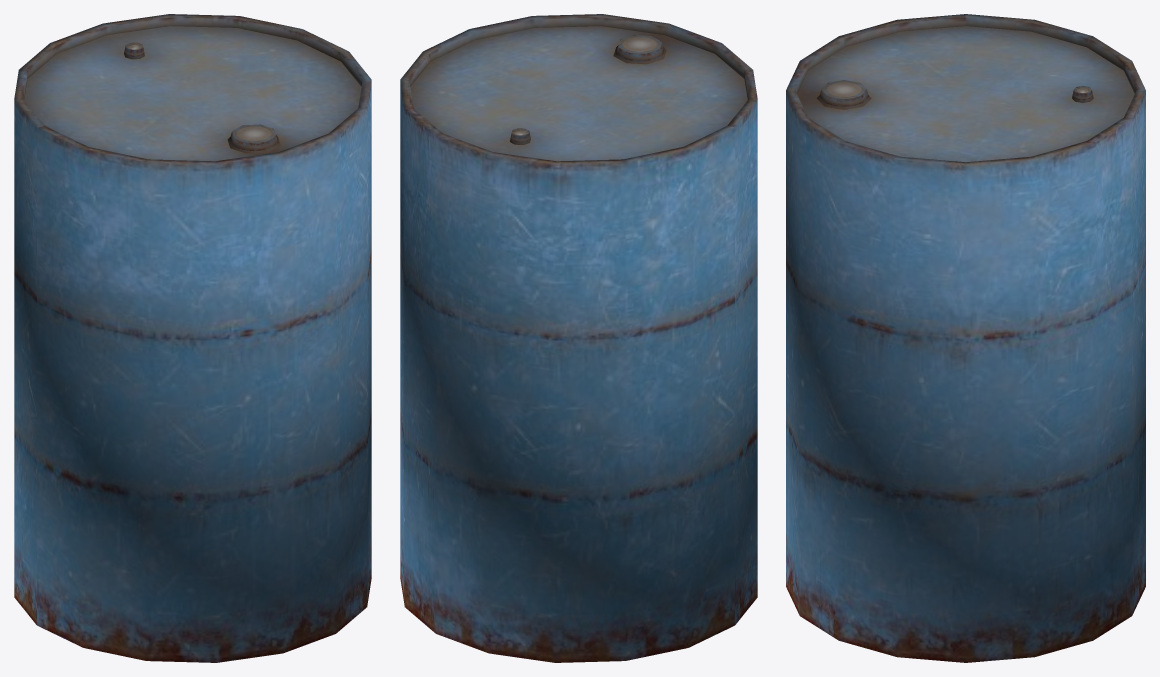
File: low_poly_oil_drum.glb
3 views of the same model, side by side, from view 1: azimuth 30°, elevation 25°; view 2: azimuth 150°, elevation 25°; view 3: azimuth 270°, elevation 25° (orthographic).
Parts seen in each view (by area): view 1: Drum_a_low, Drum_b_low; view 2: Drum_a_low, Drum_b_low; view 3: Drum_a_low, Drum_b_low.
Part boxes in pixels (x1,y1,x2,y2): Drum_a_low: [14, 14, 371, 662]; Drum_b_low: [227, 124, 280, 153]; Drum_a_low: [400, 14, 757, 662]; Drum_b_low: [613, 35, 666, 64]; Drum_a_low: [786, 14, 1145, 662]; Drum_b_low: [816, 80, 871, 109].
Bounding box in the file's own units: 1.32 × 2.01 × 1.32.
Materials: 1 (1 with a texture image).
